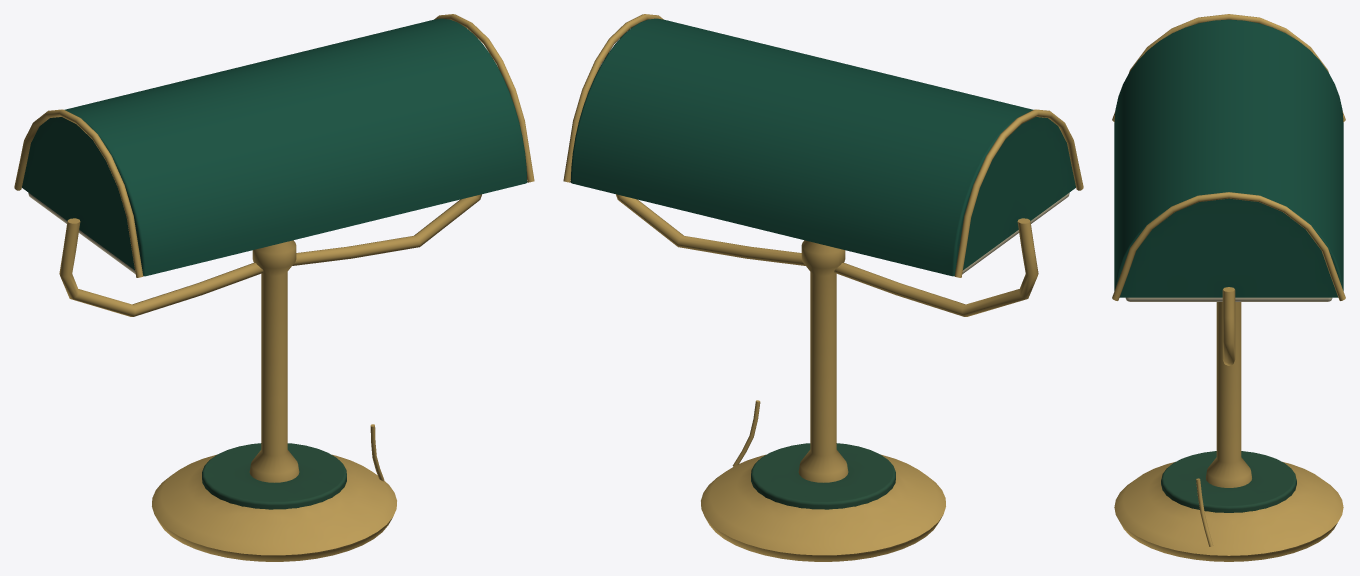
Rendered from lamp-04.gltf.
3 views of the same model, side by side, from view 1: azimuth 30°, elevation 25°; view 2: azimuth 150°, elevation 25°; view 3: azimuth 270°, elevation 25° (orthographic). The views are drawn at different scales.
Visible parts, largest first — view 1: lamp-04; view 2: lamp-04; view 3: lamp-04.
Part boxes in pixels (box(x1,y1,x2,y2)): lamp-04: box(14, 14, 534, 561); lamp-04: box(563, 14, 1083, 561); lamp-04: box(1112, 14, 1345, 561).
Size of the model in its own units: 0.5239 by 0.524 by 0.2653.
4 materials, 4 textured.
